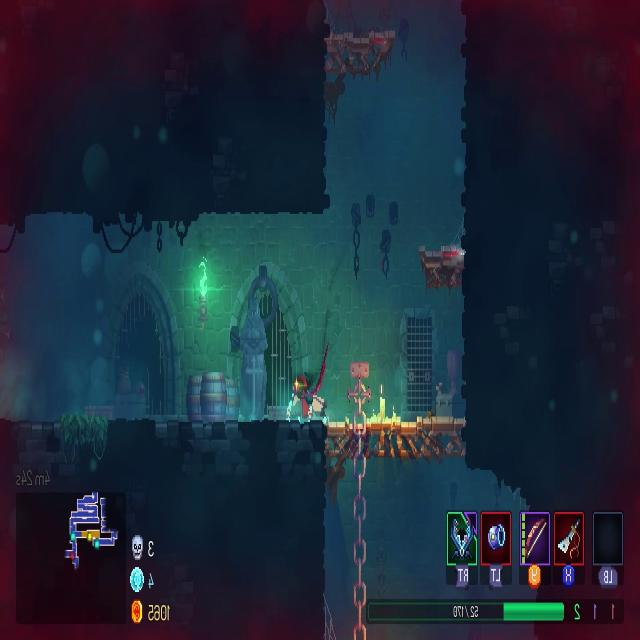agents: (286, 375, 313, 423)
wood_floor: (326, 419, 468, 462), (322, 23, 398, 81), (415, 239, 465, 291)
